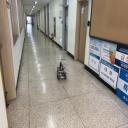cart: (57, 66, 67, 80)
